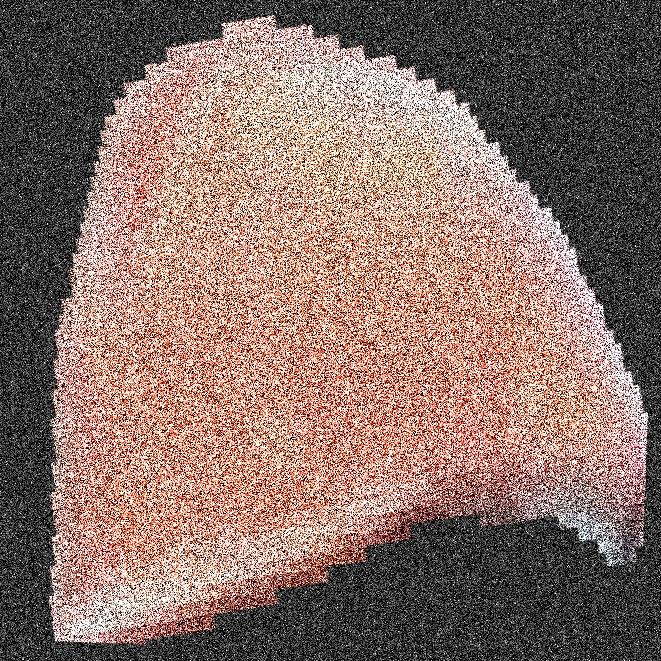Capacete: (96, 0, 401, 660)
